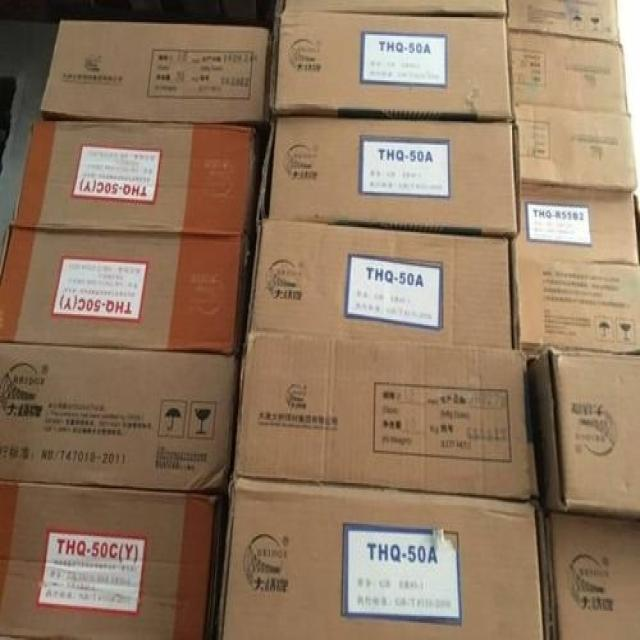box: (218, 478, 553, 640), (233, 335, 540, 498), (0, 345, 239, 492), (247, 222, 512, 348), (0, 227, 252, 355), (260, 121, 518, 237), (12, 118, 260, 237), (40, 20, 271, 143), (270, 12, 512, 118), (531, 350, 639, 521), (512, 258, 640, 358), (548, 519, 639, 638), (513, 108, 637, 191), (508, 32, 630, 113), (511, 191, 640, 265), (508, 0, 622, 43), (276, 0, 507, 15)
